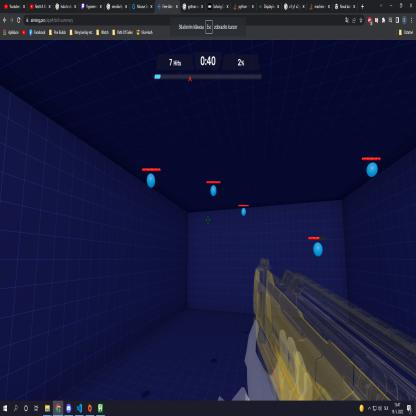sphere: (366, 162, 379, 178), (146, 172, 156, 188), (313, 242, 323, 258), (210, 185, 217, 197), (241, 207, 246, 216)
